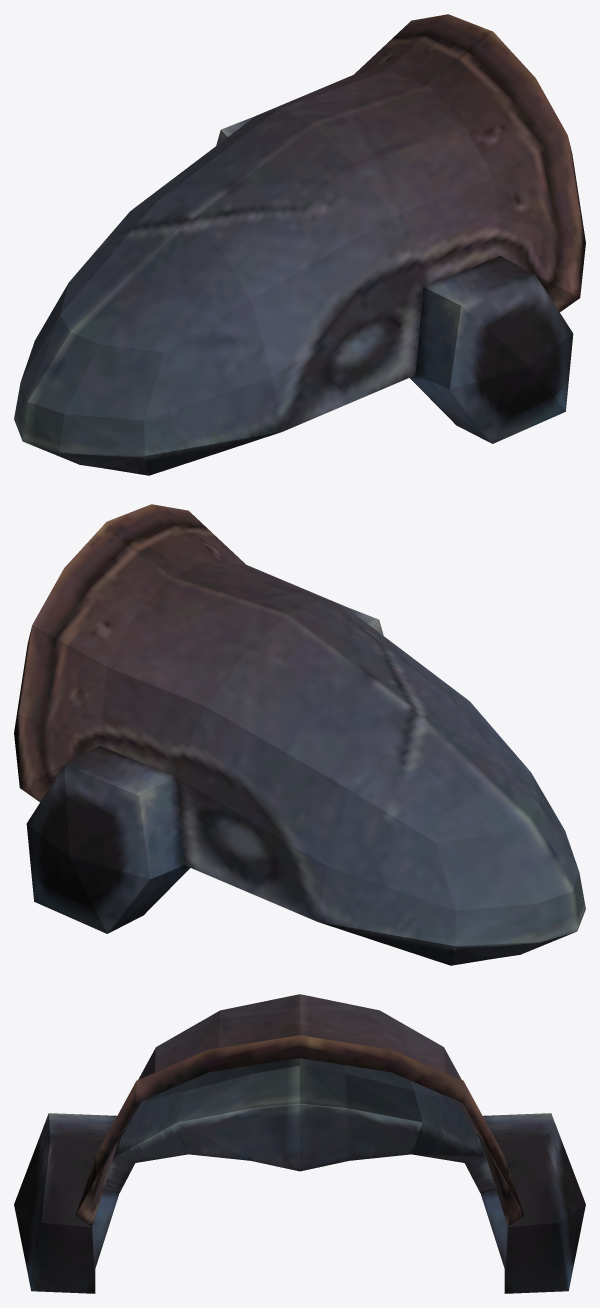
Rendered from Bison_berserkerHelmet.obj.
3 views of the same model, one above another, from view 1: azimuth 30°, elevation 25°; view 2: azimuth 150°, elevation 25°; view 3: azimuth 270°, elevation 25° (orthographic). The views are drawn at different scales.
Visible parts, largest first — view 1: Bison_berserkerHelmet_tri; view 2: Bison_berserkerHelmet_tri; view 3: Bison_berserkerHelmet_tri.
Part boxes in pixels (x1=…): Bison_berserkerHelmet_tri: x1=14, y1=14, x2=585, y2=475; Bison_berserkerHelmet_tri: x1=14, y1=504, x2=585, y2=965; Bison_berserkerHelmet_tri: x1=14, y1=994, x2=585, y2=1293.
Bounding box in the file's own units: 0.8445 × 0.5641 × 0.8423.
1 material, 1 textured.
